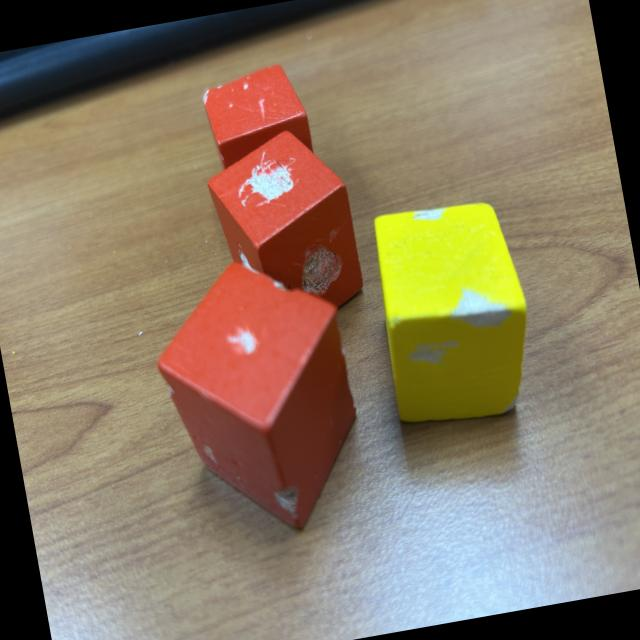broken: (142, 245, 375, 548), (364, 192, 544, 430), (199, 122, 366, 326), (198, 59, 320, 206)
